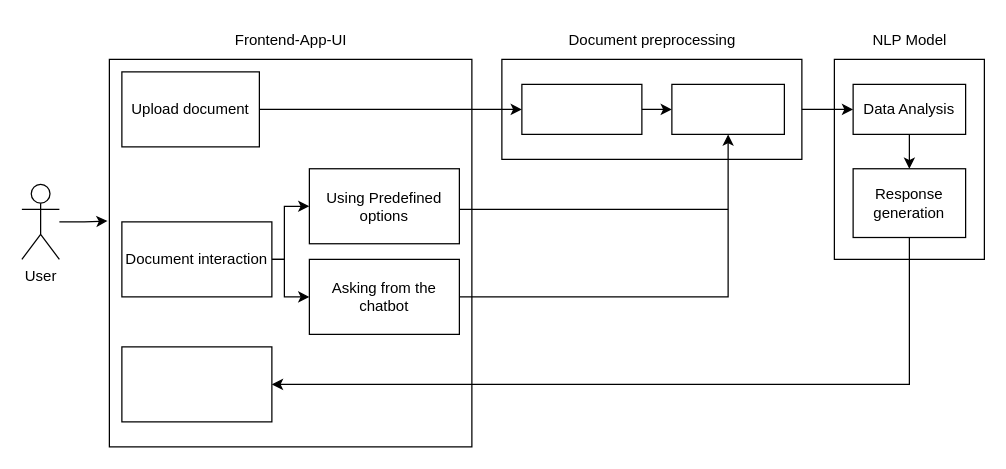
The diagram is 1006 pixels wide and 469 high, and some of its shapes have lost their labels. Each missing label, with the box of its shape:
Document to plain text: (521, 83, 642, 134)
Response display: (121, 346, 272, 422)
Tokenization: (671, 83, 784, 134)
